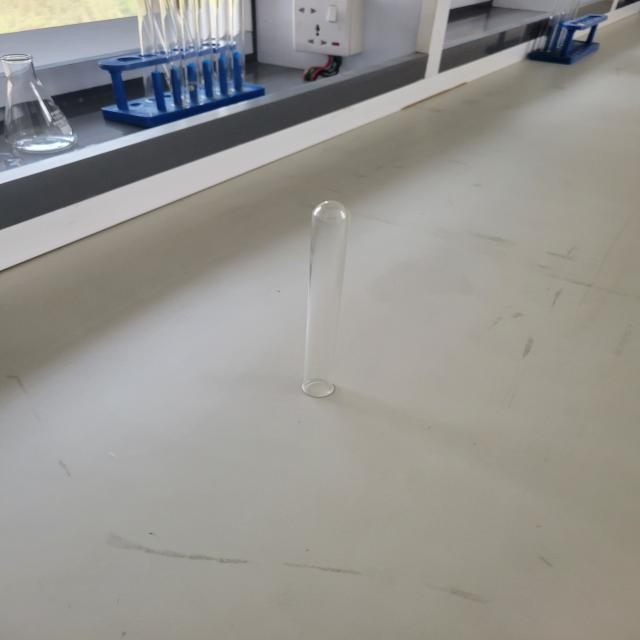Test_Tube: (265, 180, 384, 433)
